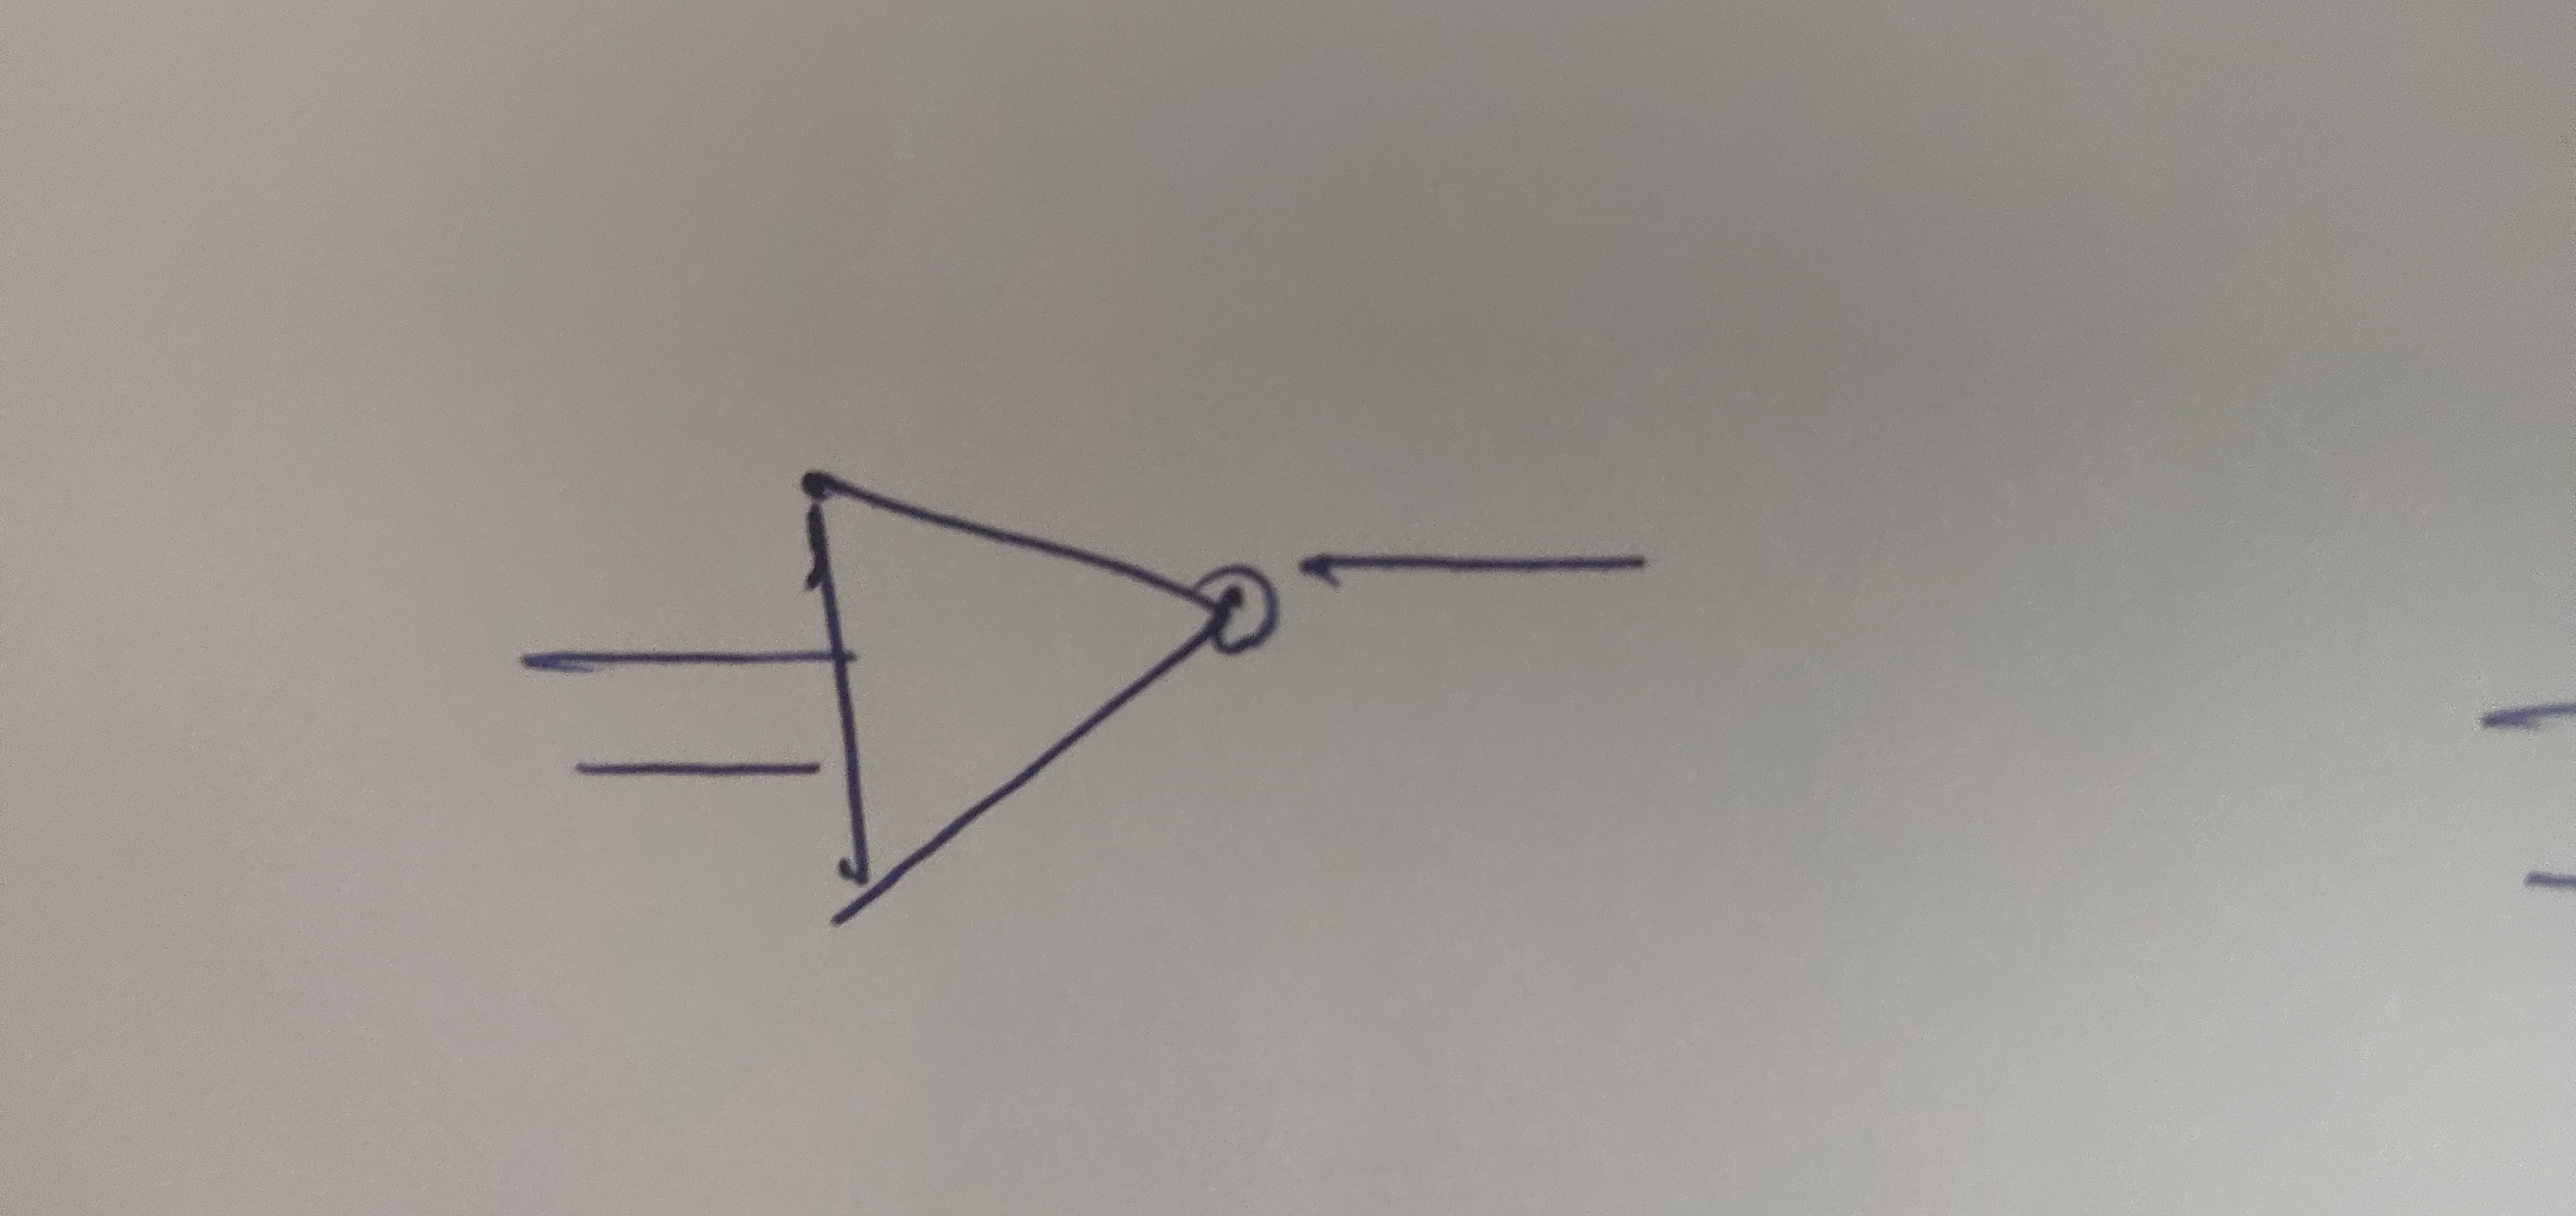not: (701, 401, 1406, 976)
